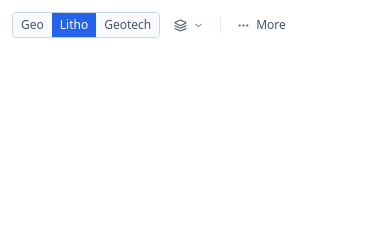
the ⋯ More menu of the Sections stage › MM6 — the litho Bodies menu is still reachable at a narrow width
Click the button with test id "litho-bodies-dropdown" at (189, 25), box [164,14,214,36]
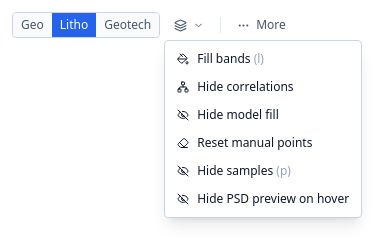
Check: the menu item with test id "litho-fill-bands" is shown, box [165,44,361,72]
Check: the menu item with test id "litho-toggle-correlations" is shown, box [165,72,361,100]
Check: the menu item with test id "litho-toggle-model-fill" is shown, box [165,100,361,128]
